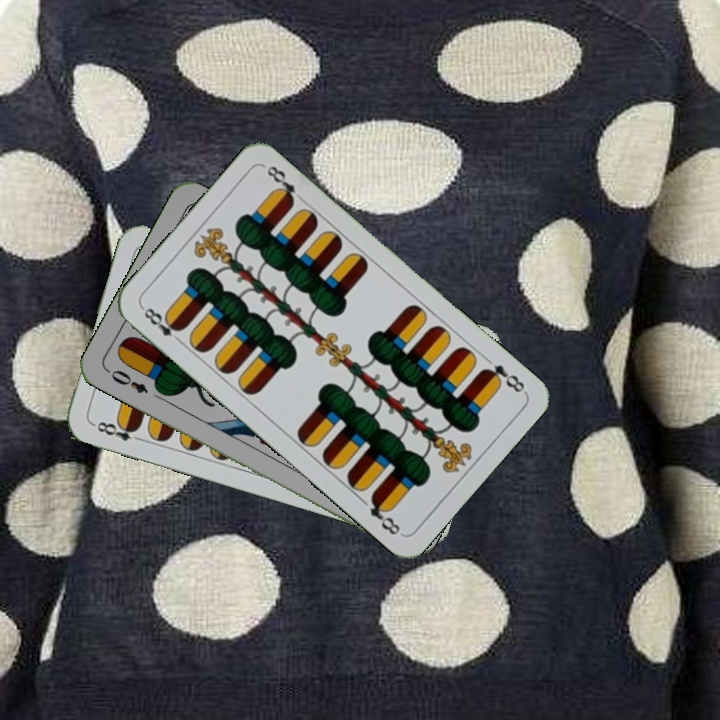E8: (138, 303, 186, 347), (477, 360, 529, 396), (89, 417, 146, 444)
EO: (107, 365, 151, 396)
